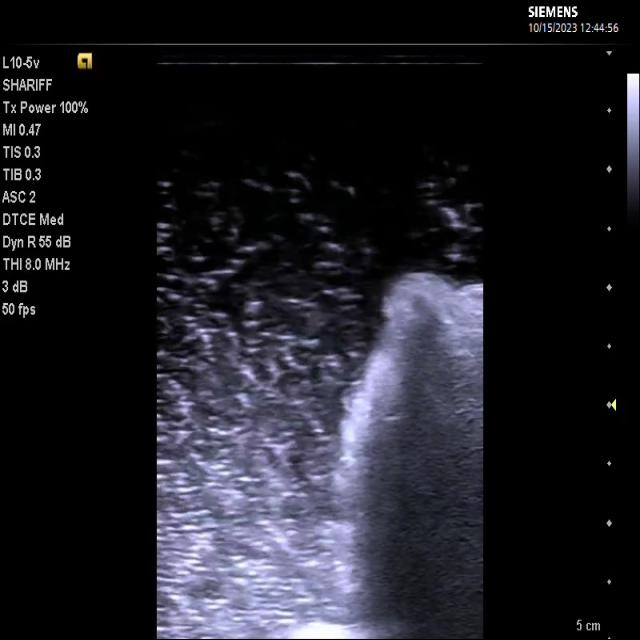tissue: (262, 272, 483, 640)
